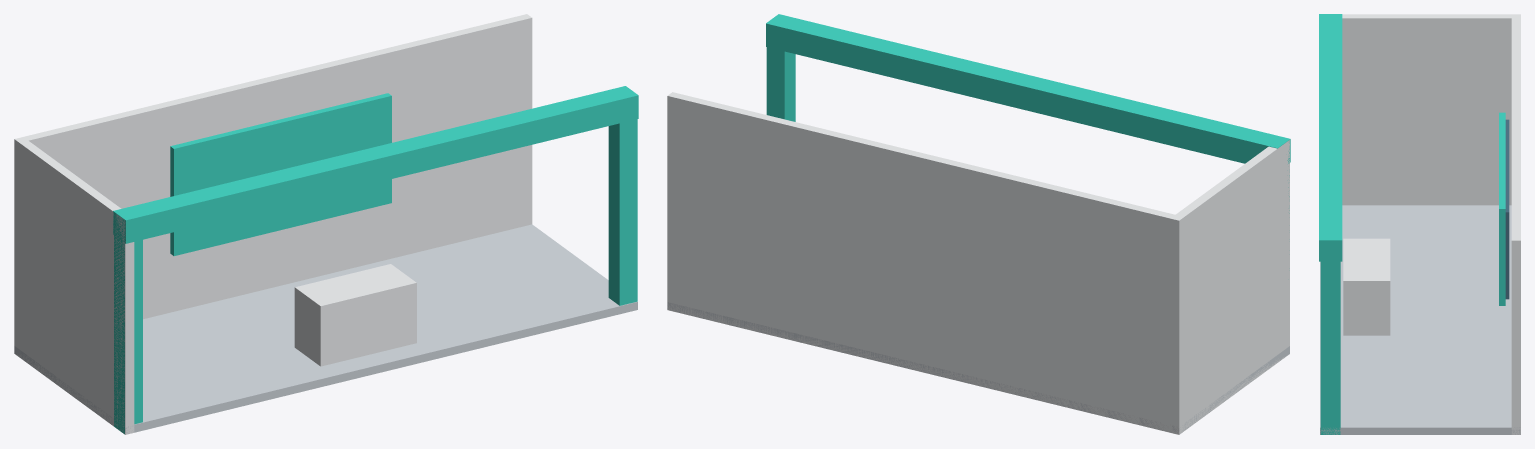
The picture shows the model from 3 angles, left to right: view 1: azimuth 30°, elevation 25°; view 2: azimuth 150°, elevation 25°; view 3: azimuth 270°, elevation 25°; orthographic projection. The views are drawn at different scales.
Visible parts, largest first — view 1: Exhibition Booth Concept; view 2: Exhibition Booth Concept; view 3: Exhibition Booth Concept.
Part boxes in pixels (bbox=[...]): Exhibition Booth Concept: bbox=[14, 14, 638, 434]; Exhibition Booth Concept: bbox=[667, 14, 1290, 434]; Exhibition Booth Concept: bbox=[1319, 14, 1520, 434].
Bounding box in the file's own units: 8 × 3.2 × 3.01.
